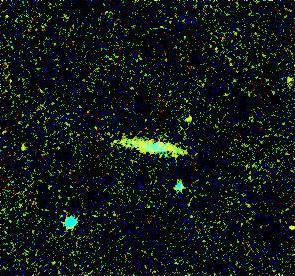star: (170, 99, 200, 129)
